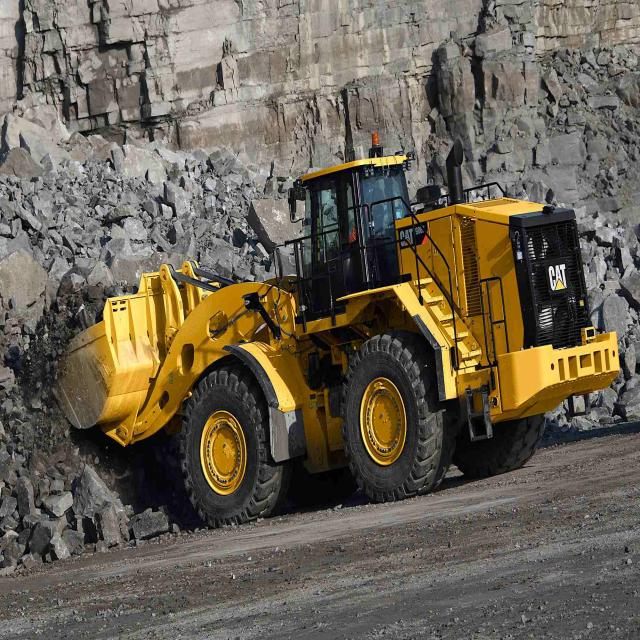buldozerpayloadergrader: (30, 122, 622, 521)
